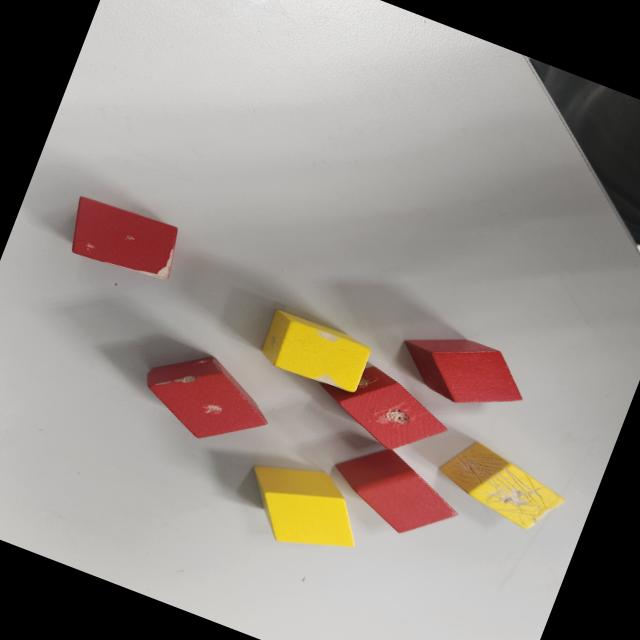broken: (130, 335, 283, 460), (306, 350, 460, 468), (430, 432, 574, 540), (58, 190, 187, 288), (254, 306, 372, 397)
red: (320, 432, 471, 552), (389, 318, 534, 425)
yellow: (232, 448, 376, 568)
